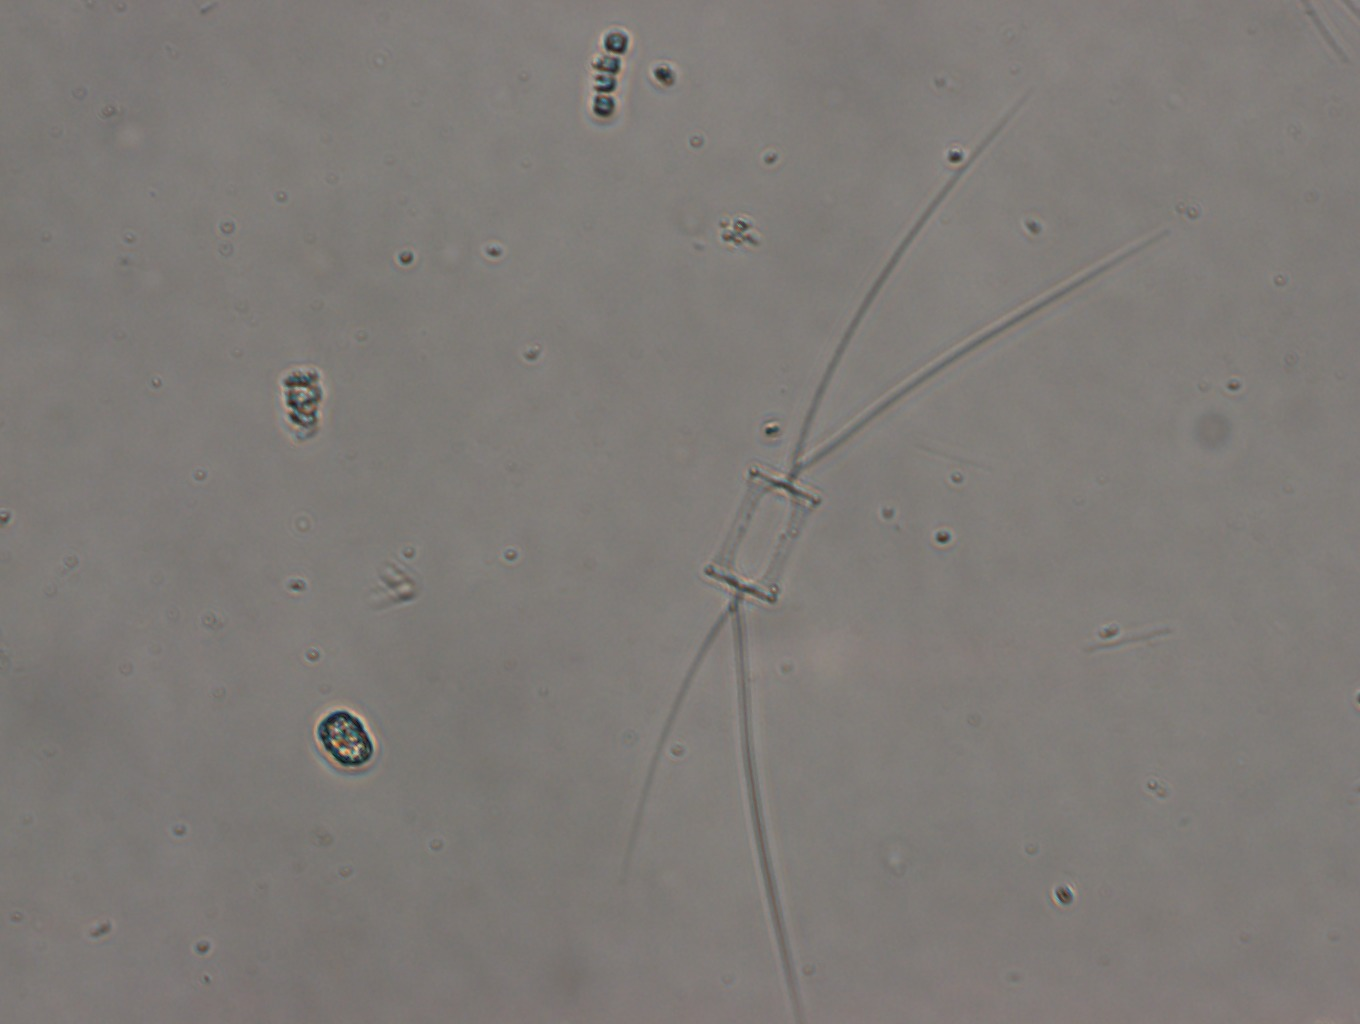chaetoceros: (632, 84, 1161, 1020)
skeletonema: (588, 27, 630, 124)
